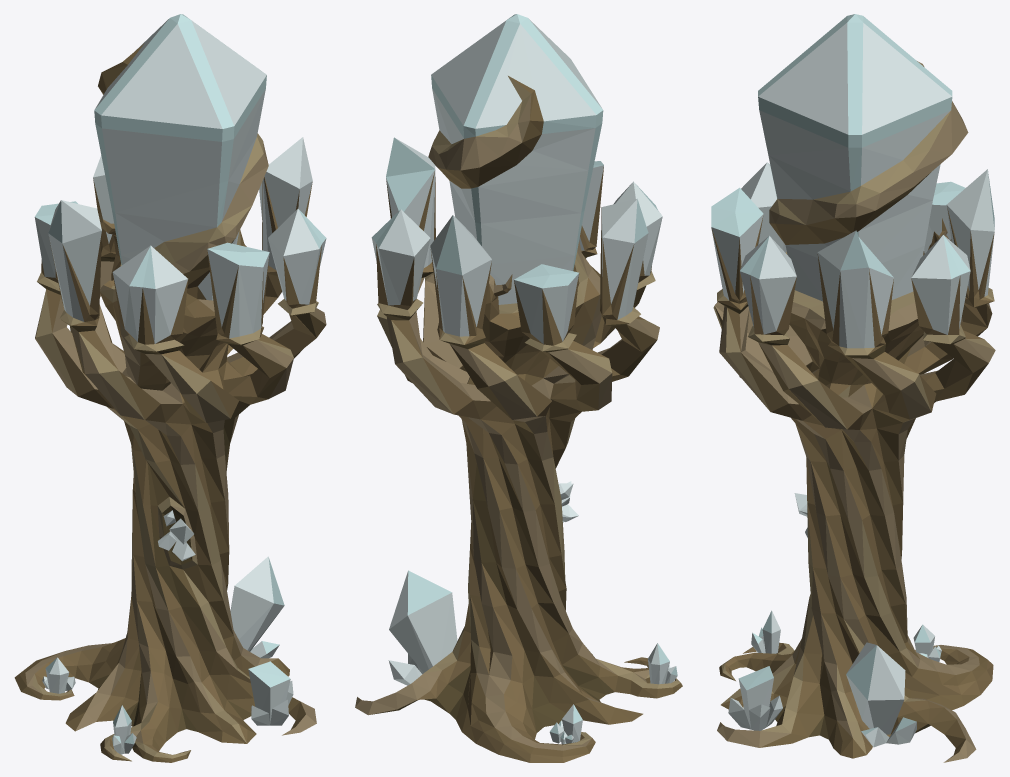
File: crystal-tree.gltf
3 views of the same model, side by side, from view 1: azimuth 30°, elevation 25°; view 2: azimuth 150°, elevation 25°; view 3: azimuth 270°, elevation 25° (orthographic).
Size of the model in its own units: 256 by 667 by 249.
Materials: 1 (1 with a texture image).
